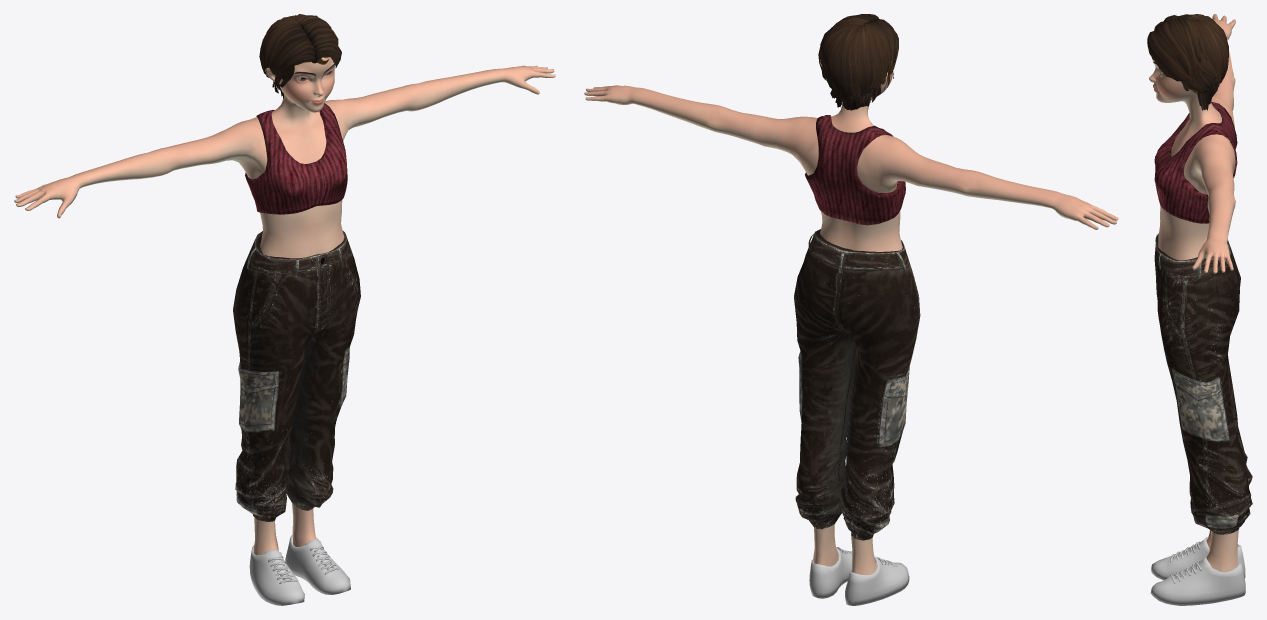
File: Dancer3.obj
The picture shows the model from 3 angles, left to right: view 1: azimuth 30°, elevation 25°; view 2: azimuth 150°, elevation 25°; view 3: azimuth 270°, elevation 25°; orthographic projection.
Visible parts, largest first — view 1: Bottoms, Body, Tops, Shoes, Hair; view 2: Bottoms, Body, Tops, Hair, Shoes; view 3: Bottoms, Body, Hair, Shoes, Tops.
Boxes of the visible parts, bbox=[...] form: Bottoms: bbox=[233, 231, 360, 521]; Body: bbox=[14, 25, 555, 555]; Tops: bbox=[245, 103, 347, 214]; Shoes: bbox=[249, 535, 350, 605]; Hair: bbox=[259, 14, 341, 98]; Bottoms: bbox=[794, 229, 920, 540]; Body: bbox=[584, 22, 1118, 574]; Tops: bbox=[805, 115, 905, 225]; Hair: bbox=[818, 14, 898, 110]; Shoes: bbox=[809, 547, 909, 605]; Bottoms: bbox=[1154, 233, 1252, 534]; Body: bbox=[1149, 14, 1238, 571]; Hair: bbox=[1147, 14, 1228, 110]; Shoes: bbox=[1150, 537, 1245, 605]; Tops: bbox=[1154, 101, 1237, 223].
Bounding box in the file's own units: 169 × 171 × 28.77.
